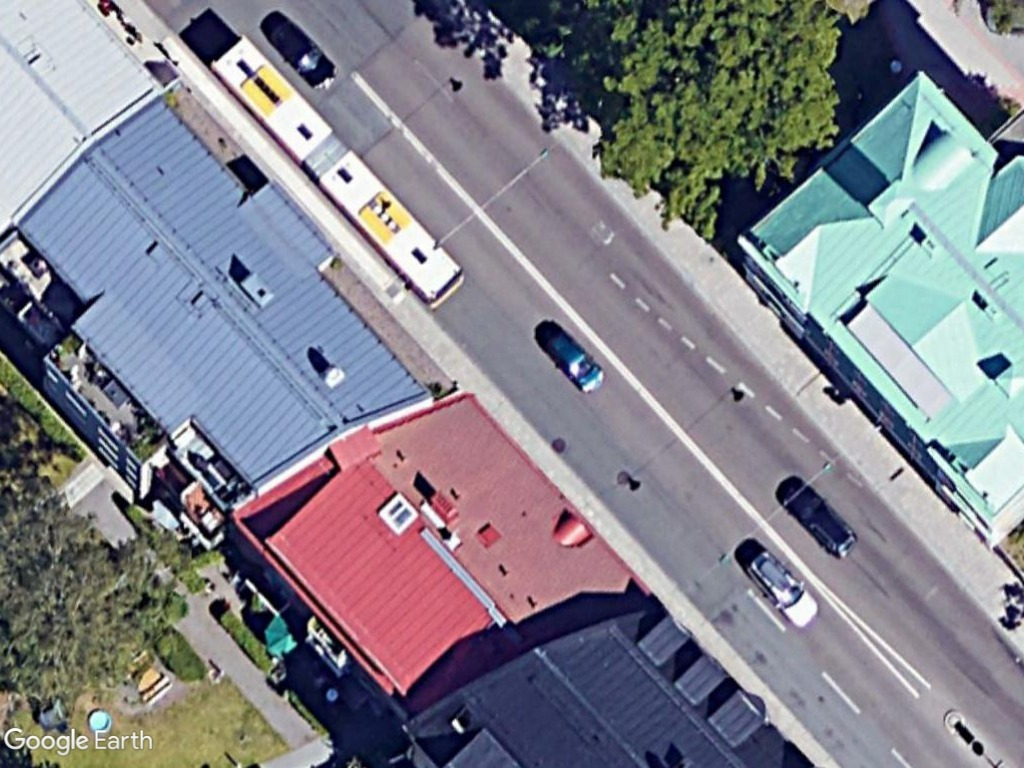bus: (204, 34, 470, 310)
car: (745, 546, 823, 633), (784, 481, 863, 563), (268, 16, 344, 95), (541, 324, 609, 395)
